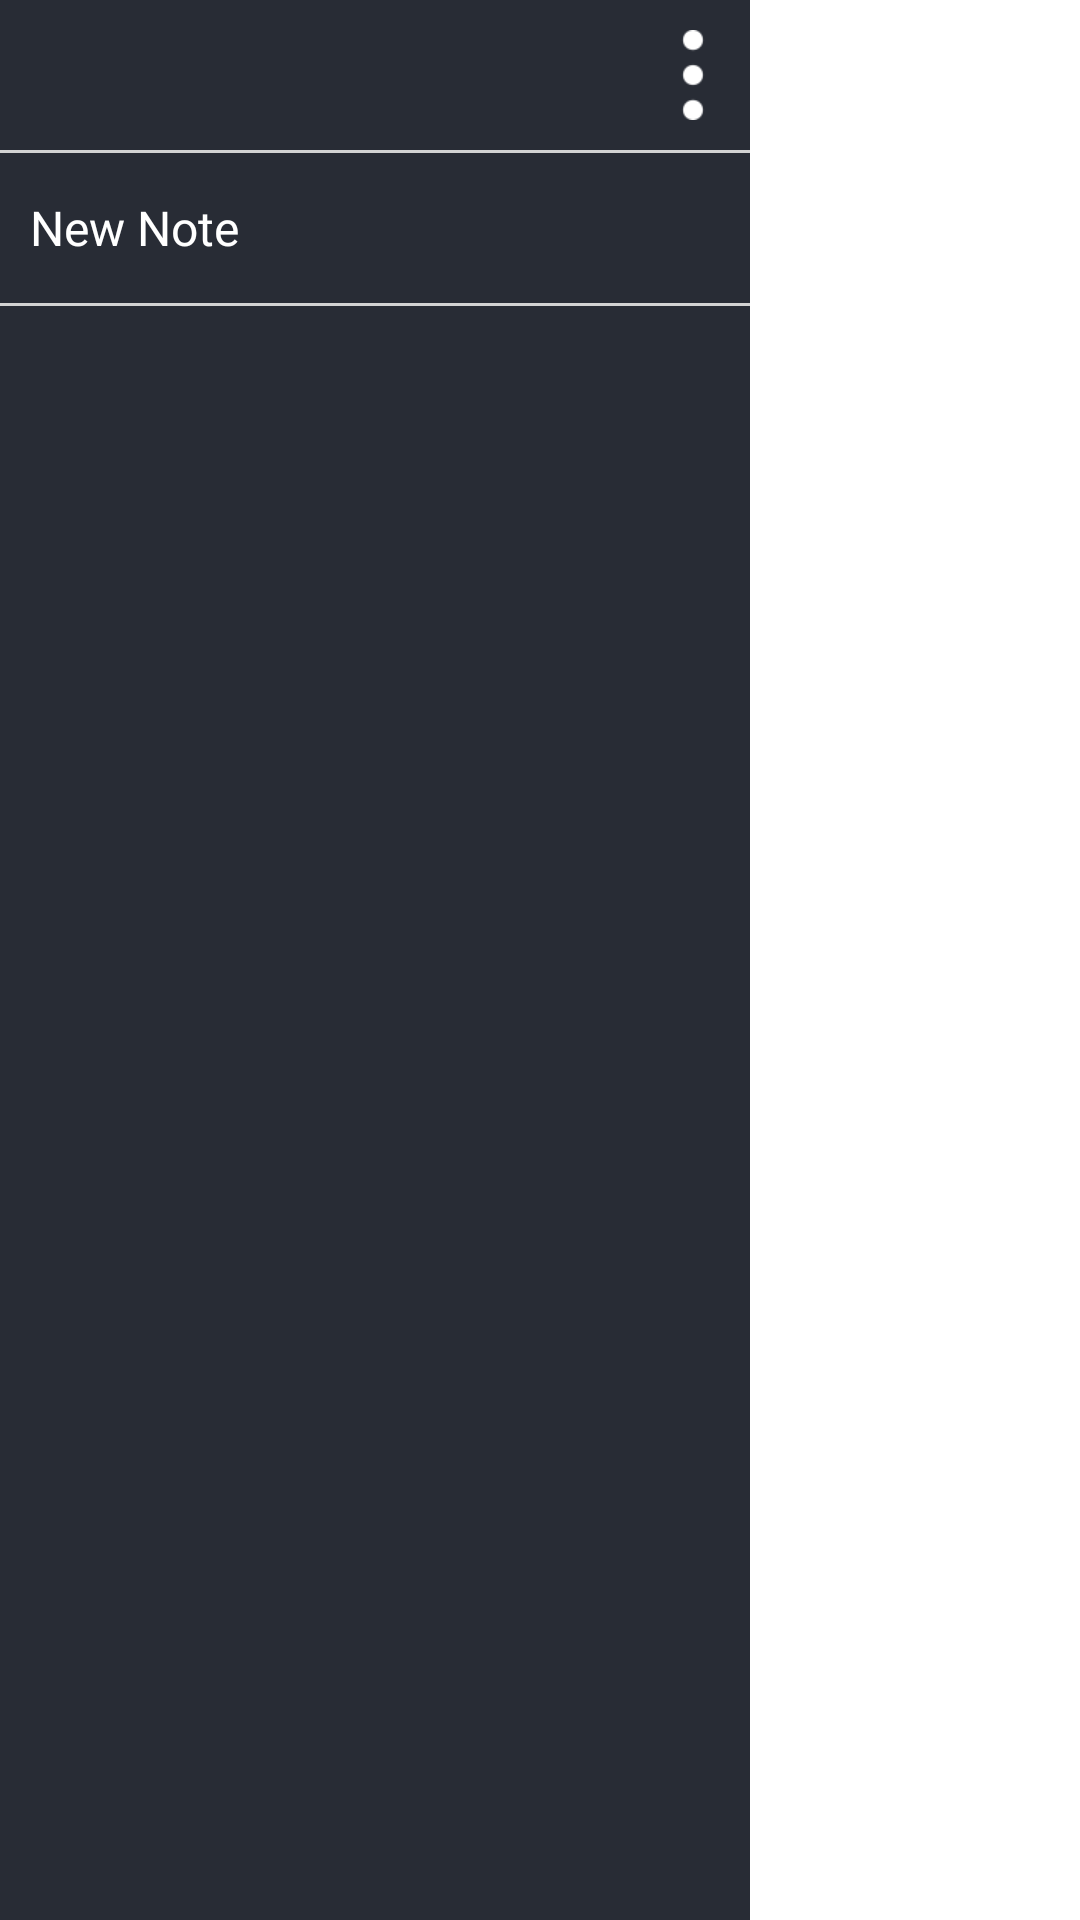

Where icons sit on this 1080×1920 app screen, as region(x1, y1, x2, y2):
more: region(683, 30, 703, 120)
